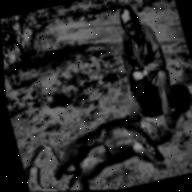boar: (36, 104, 189, 191)
